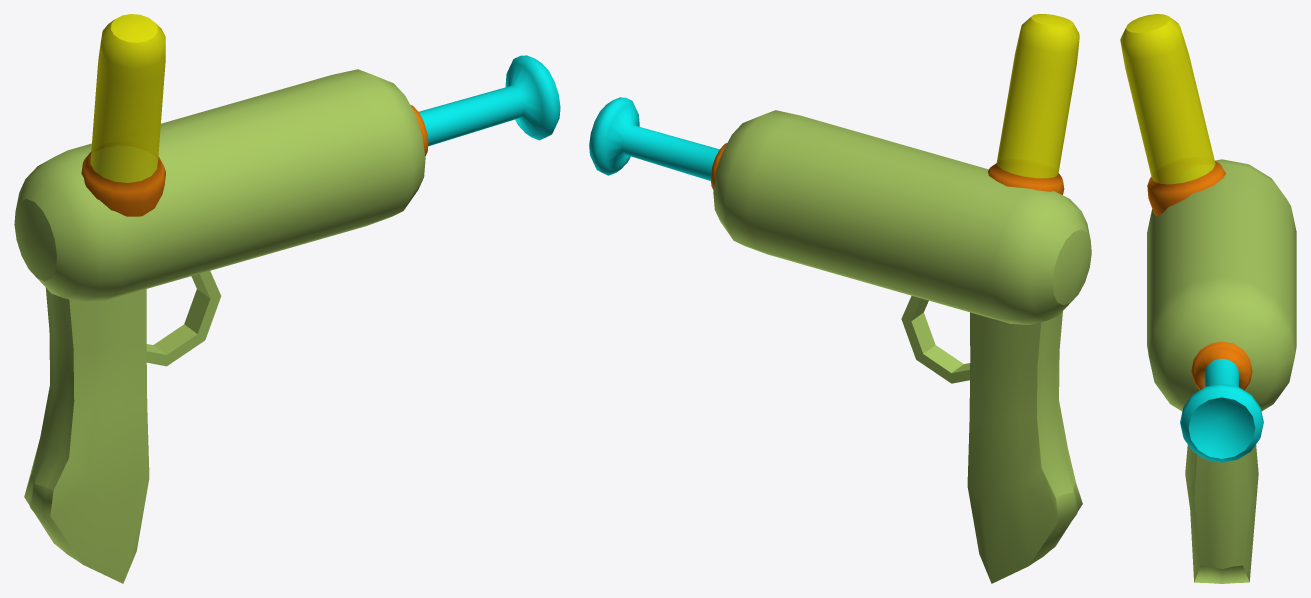
Rendered from Blaster4.fbx.
3 views of the same model, side by side, from view 1: azimuth 30°, elevation 25°; view 2: azimuth 150°, elevation 25°; view 3: azimuth 270°, elevation 25° (orthographic). The views are drawn at different scales.
Parts seen in each view (by area): view 1: polySurface1, pCube11, pCylinder4, pPipe10; view 2: polySurface1, pCube11, pCylinder4, pPipe10; view 3: polySurface1, pCylinder4, pCube11.
Boxes of the visible parts, left/top/right/bottom form: polySurface1: left=14, top=55, right=560, bottom=302; pCube11: left=24, top=287, right=149, bottom=583; pCylinder4: left=81, top=14, right=165, bottom=216; pPipe10: left=146, top=271, right=221, bottom=366; polySurface1: left=589, top=97, right=1091, bottom=324; pCube11: left=967, top=311, right=1082, bottom=583; pCylinder4: left=988, top=14, right=1079, bottom=194; pPipe10: left=901, top=296, right=970, bottom=383; polySurface1: left=1147, top=159, right=1296, bottom=462; pCylinder4: left=1120, top=14, right=1225, bottom=216; pCube11: left=1185, top=444, right=1258, bottom=583.
Bounding box in the file's own units: 2.29 × 2.47 × 0.7063.
